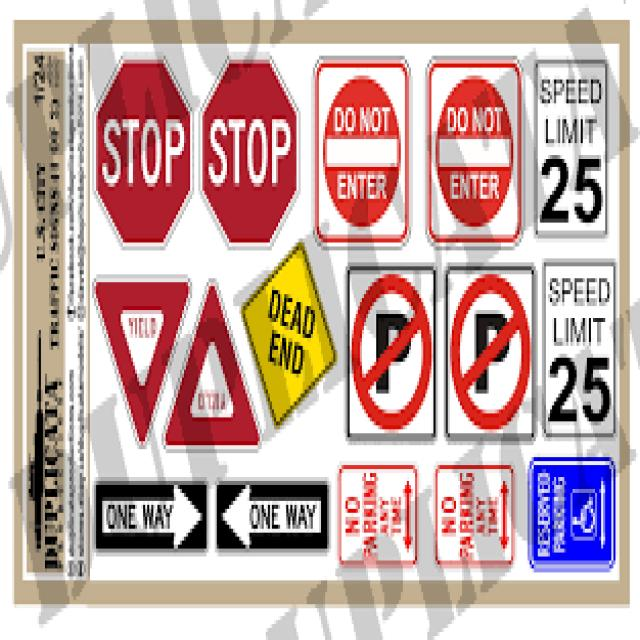speedLimit25: (543, 254, 614, 446), (538, 59, 605, 242)
